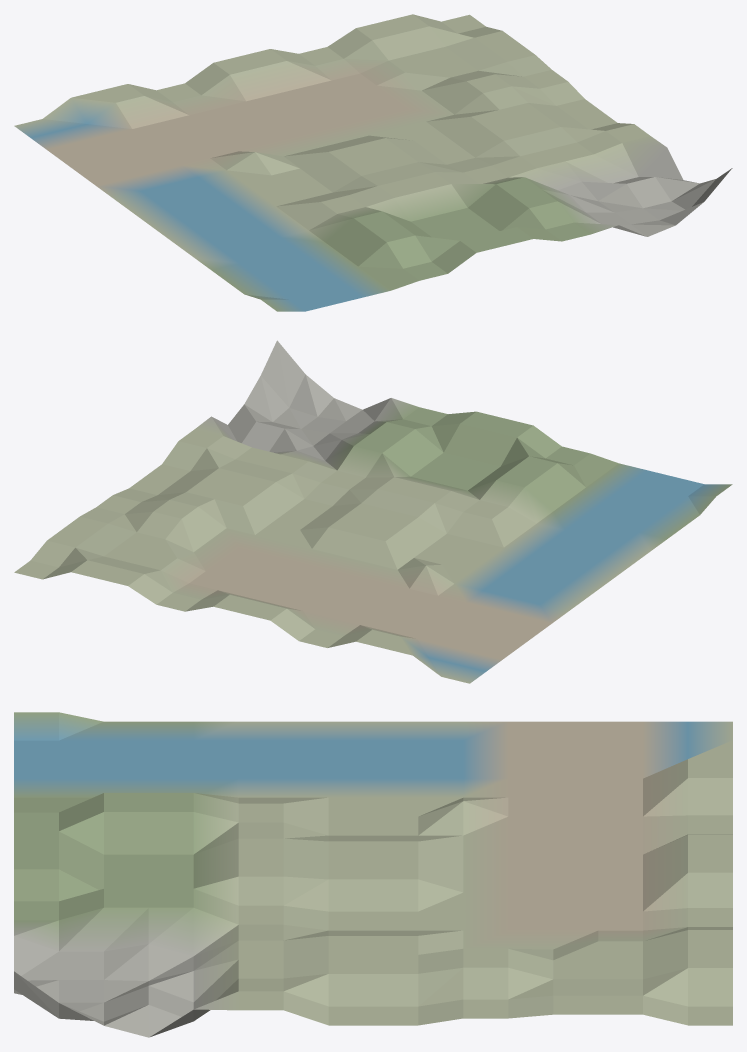
3 renders of one model, top to bottom at view 1: azimuth 30°, elevation 25°; view 2: azimuth 150°, elevation 25°; view 3: azimuth 270°, elevation 25°, orthographic. The views are drawn at different scales.
Bounding box in the file's own units: 32 × 3.42 × 32.
